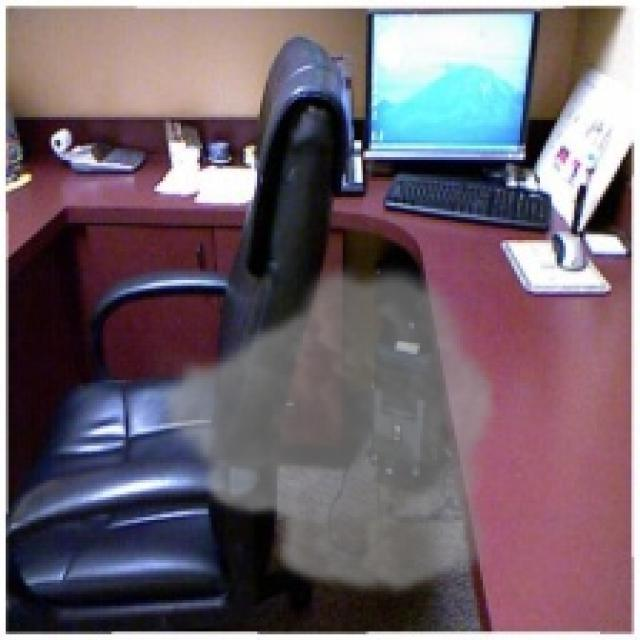Smoke: (151, 257, 500, 600)
